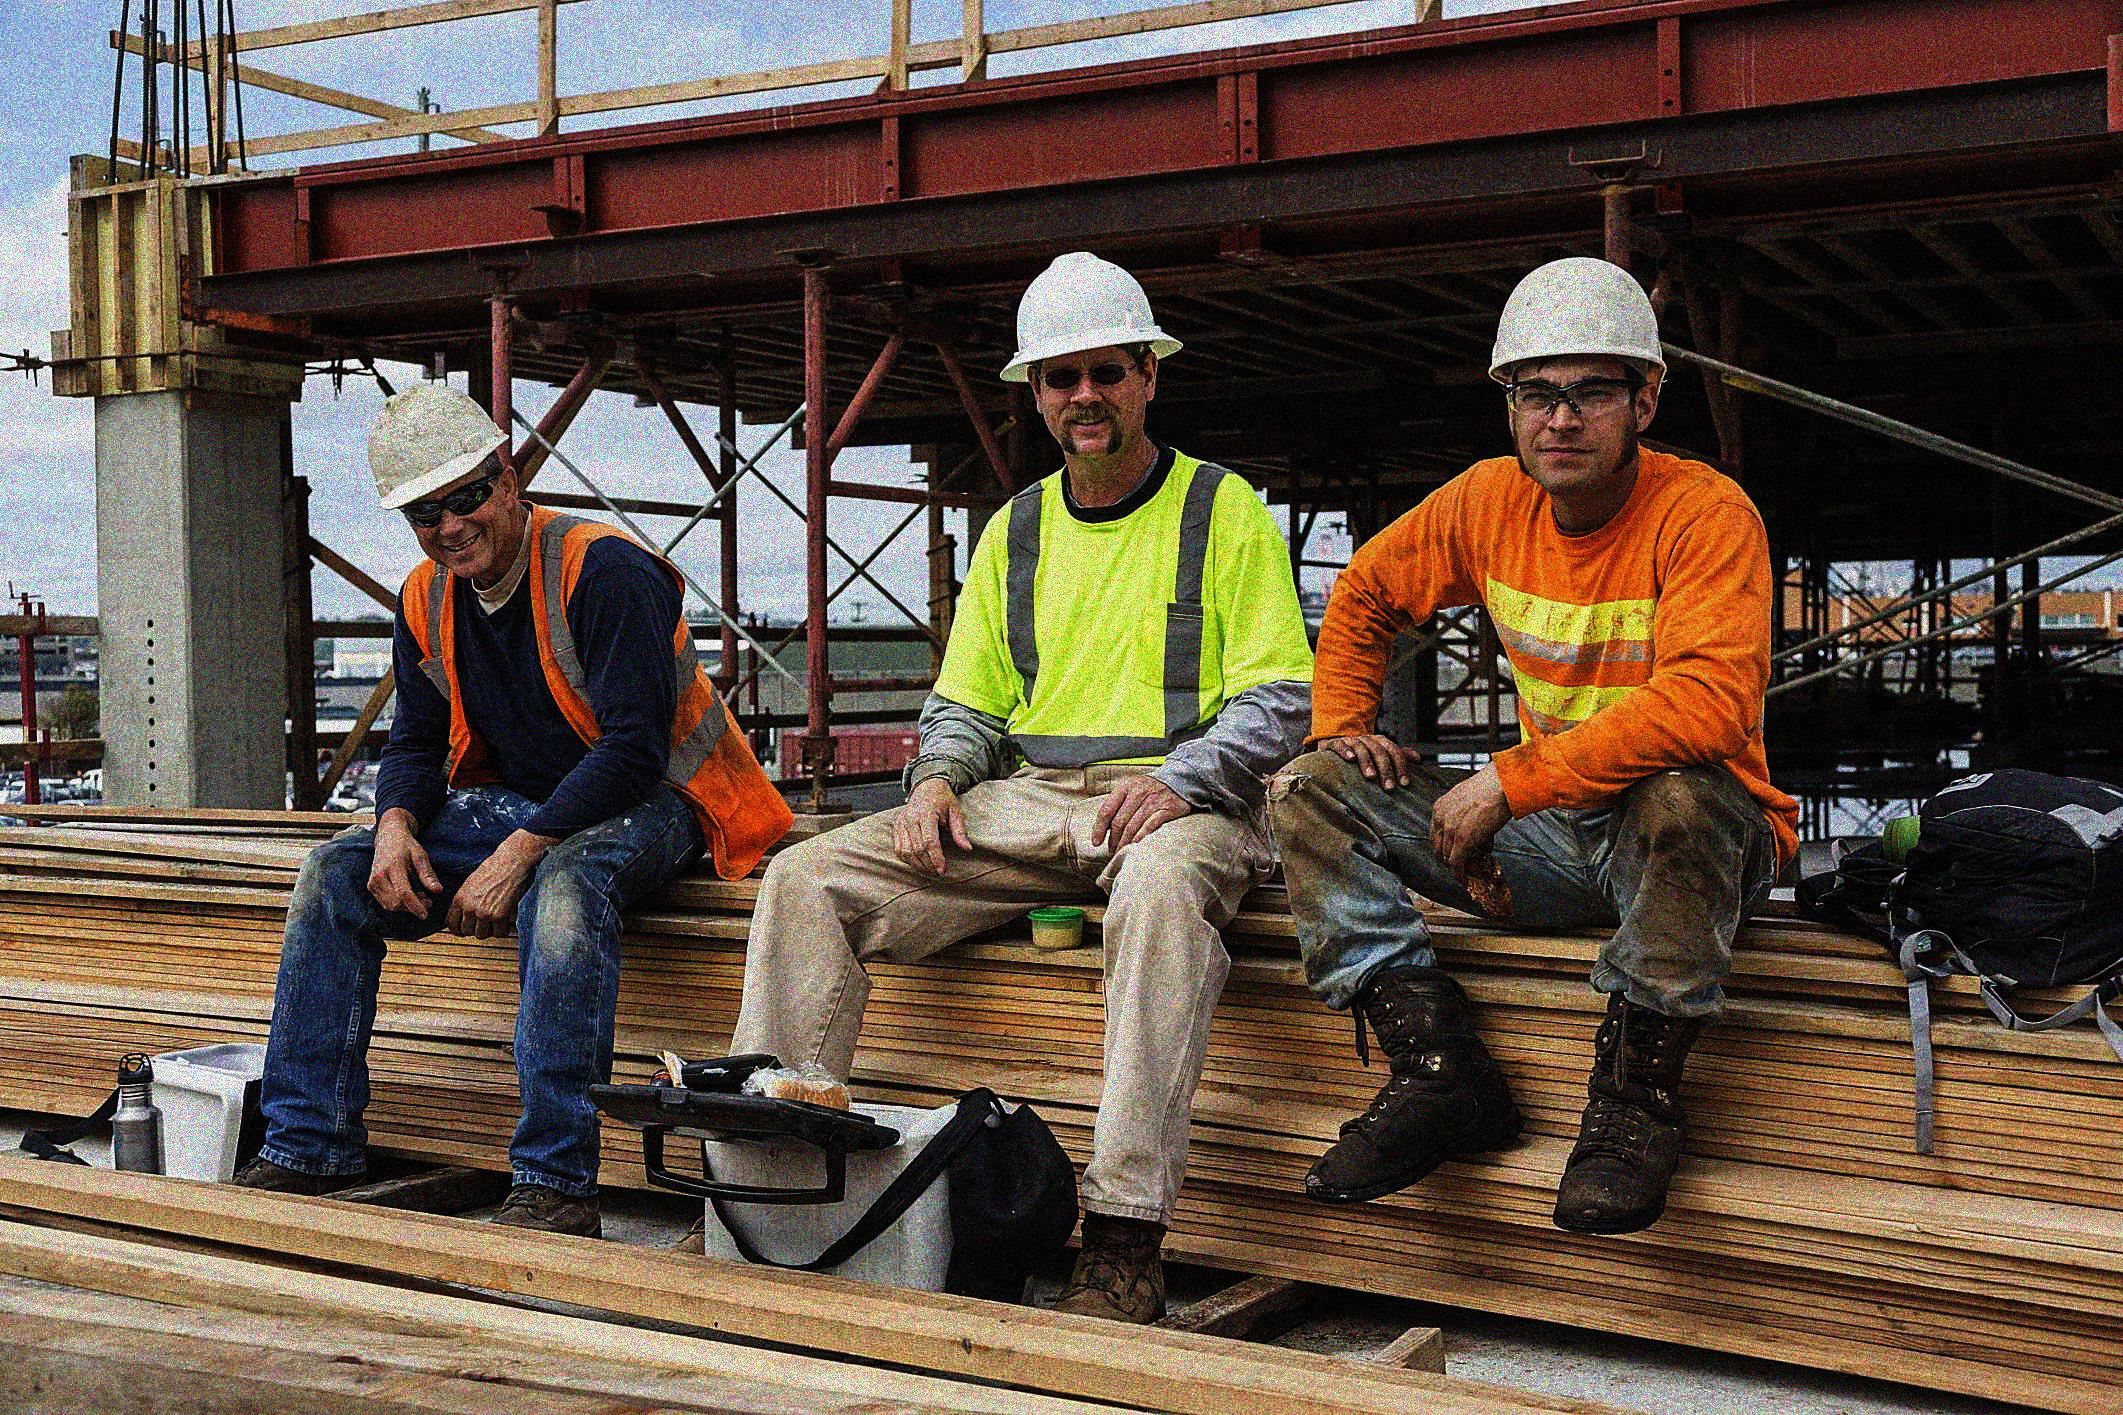helmet: (1481, 248, 1675, 496), (996, 242, 1187, 460), (358, 381, 529, 584)
